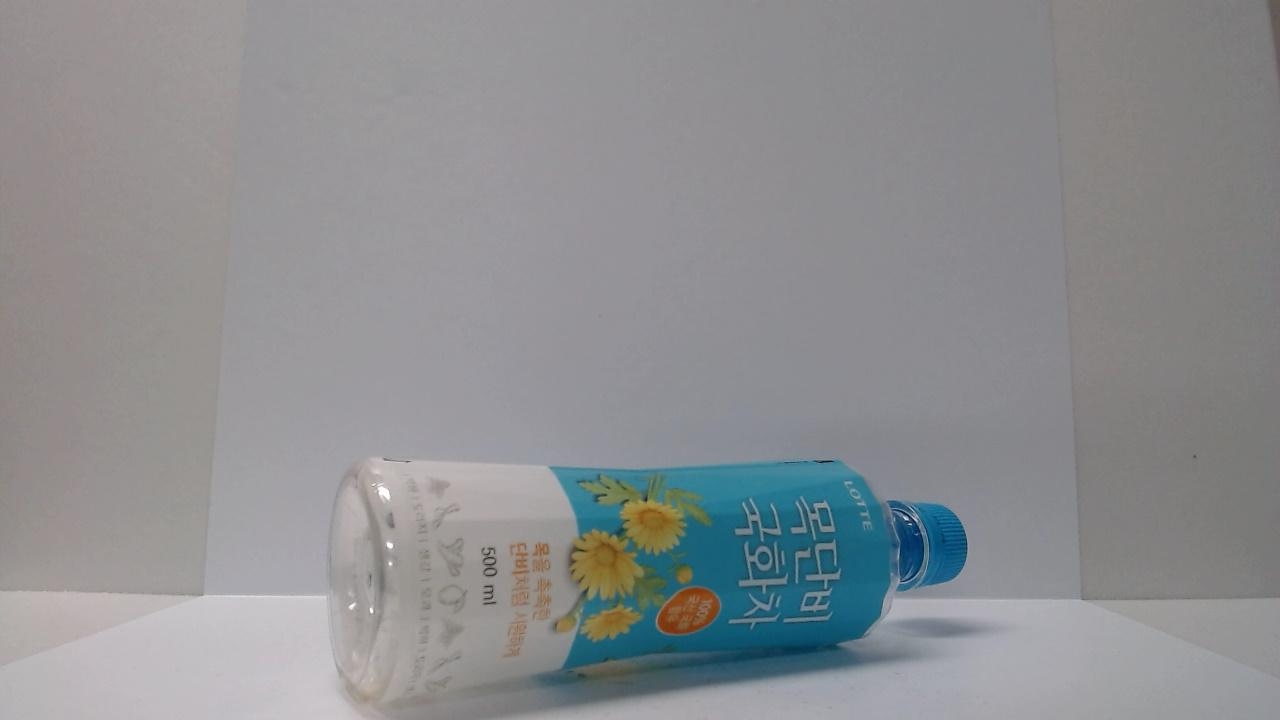bottle: (292, 0, 989, 129)
